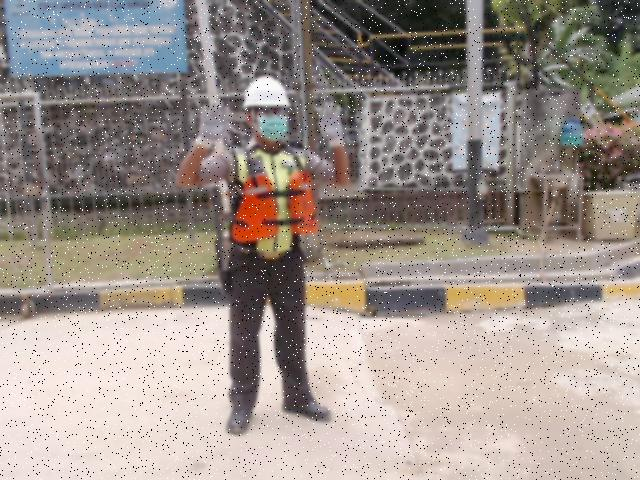glasses: (257, 107, 288, 117)
gloves: (193, 101, 233, 151), (314, 99, 347, 149)
helmet: (242, 74, 290, 108)
mask: (256, 117, 289, 140)
safety-shoes: (278, 393, 335, 425), (224, 399, 256, 436)
vest: (228, 168, 320, 240)
